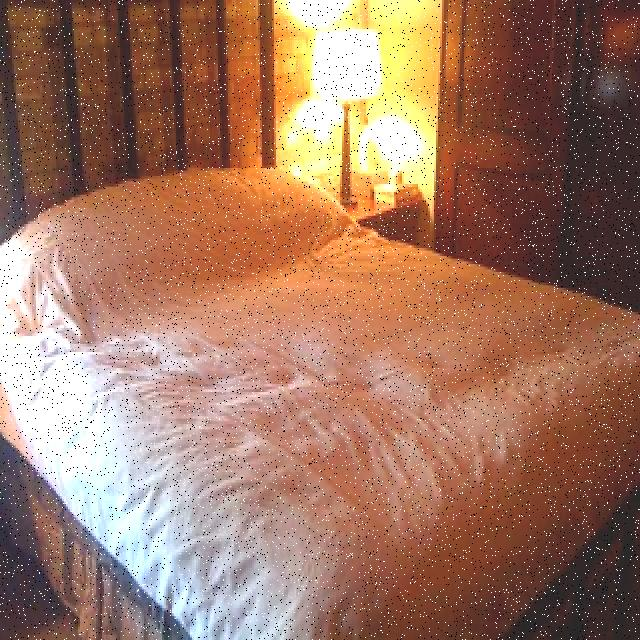bed: (3, 80, 640, 640)
